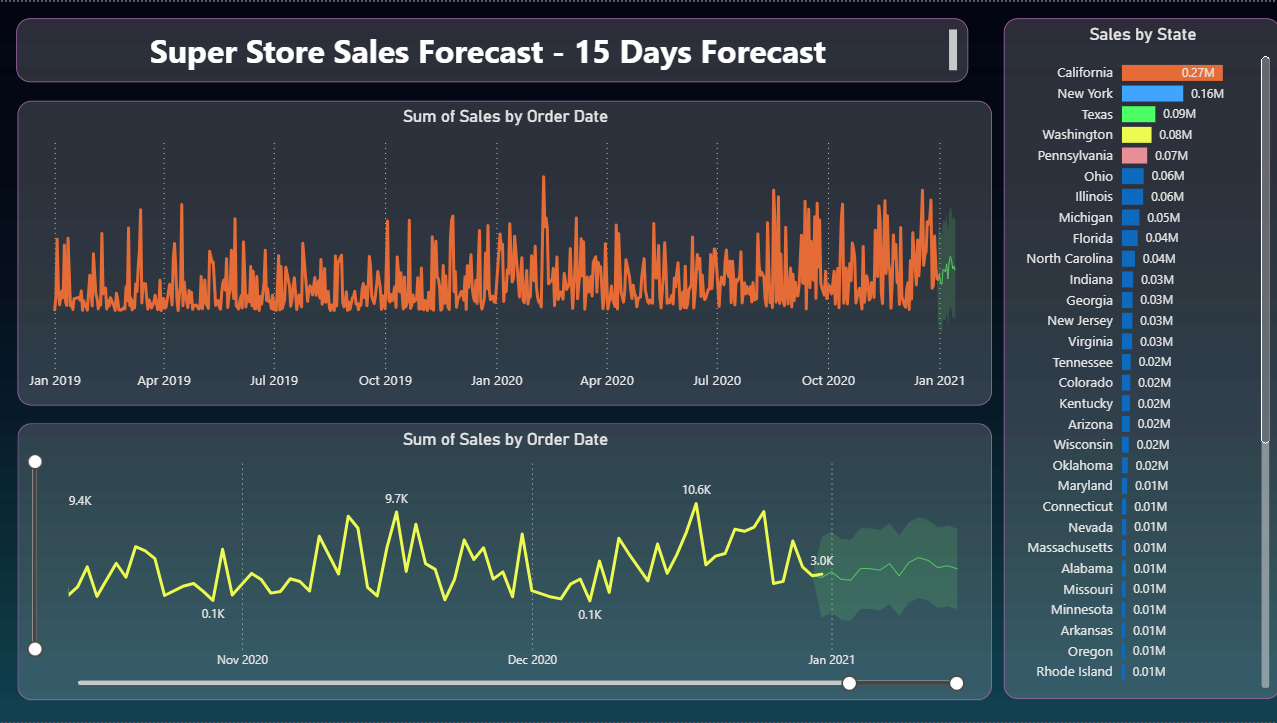

What the dashboard file says about the page in this screenshot:
{"tool":"powerbi","page":{"name":"Page 2","canvas":[1280,720],"ordinal":1},"visuals":[{"type":"lineChart","fields":{"Y":["Sum(SuperStore_Sales_Dataset.Sales)"],"Category":["SuperStore_Sales_Dataset.Order Date"]},"box":[18.1,98.7,974.5,304.4],"z":0},{"type":"lineChart","fields":{"Y":["Sum(SuperStore_Sales_Dataset.Sales)"],"Category":["SuperStore_Sales_Dataset.Order Date"]},"box":[18.1,421.2,974.5,276.6],"z":1},{"type":"clusteredBarChart","title":"Sales by State","fields":{"Category":["SuperStore_Sales_Dataset.State"],"Y":["Sum(SuperStore_Sales_Dataset.Sales)"]},"box":[1003.7,16.7,276.6,681.1],"z":2},{"type":"textbox","box":[16.7,16.7,952.2,63.9],"z":3}]}

Visuals, with their boxes in screenshot pixels (x1, y1, x2, y2), scaled from the page's 1280x720 canvas onto the 1277x723 screenshot:
lineChart - Sum(SuperStore_Sales_Dataset.Sales) x SuperStore_Sales_Dataset.Order Date: left=18, top=99, right=990, bottom=405
lineChart - Sum(SuperStore_Sales_Dataset.Sales) x SuperStore_Sales_Dataset.Order Date: left=18, top=423, right=990, bottom=701
"Sales by State" clusteredBarChart: left=1001, top=17, right=1276, bottom=701
textbox: left=17, top=17, right=967, bottom=81
